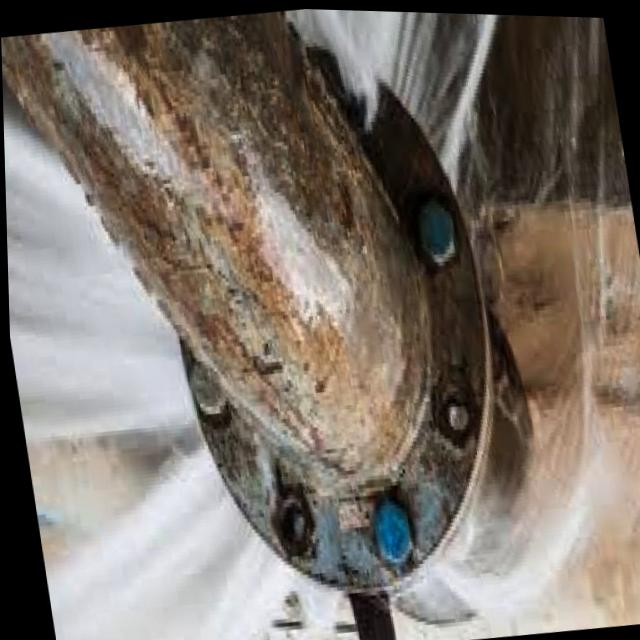leak: (292, 9, 640, 629), (3, 93, 303, 640)
